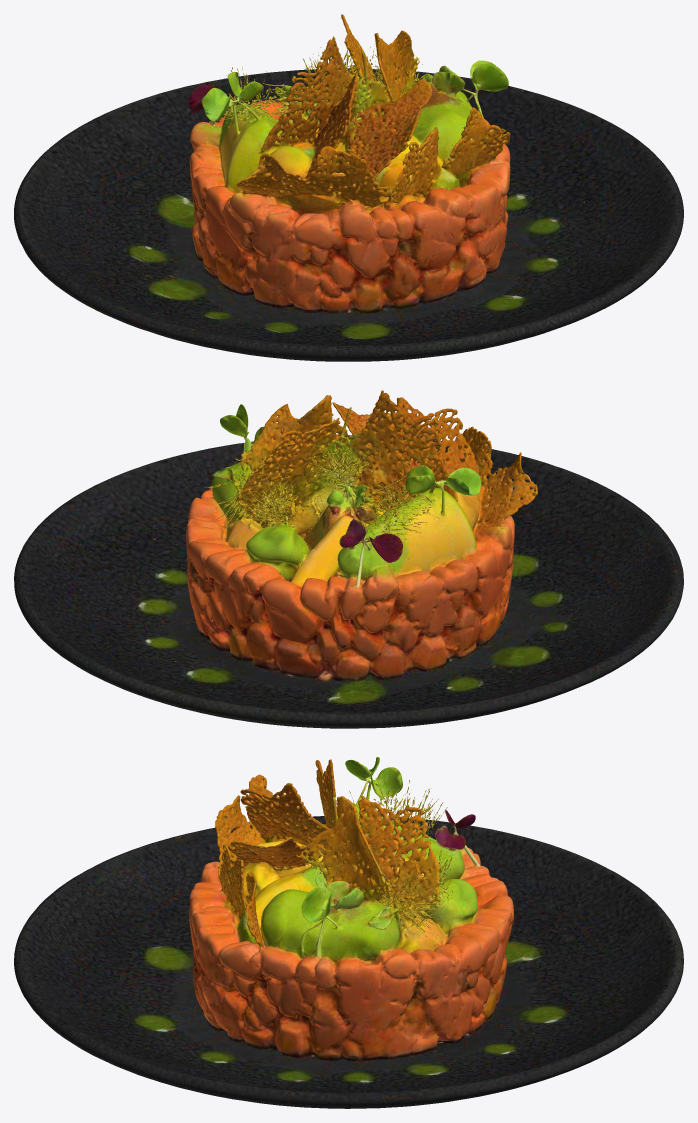
File: tartare-saumon-ar-lite-meshy.glb
3 views of the same model, one above another, from view 1: azimuth 30°, elevation 25°; view 2: azimuth 150°, elevation 25°; view 3: azimuth 270°, elevation 25° (orthographic).
Visible parts, largest first — view 1: node0; view 2: node0; view 3: node0.
Boxes of the visible parts, x1,y1,x2,y2 form: node0: (14,14,683,361); node0: (14,390,683,728); node0: (14,757,683,1108).
Bounding box in the file's own units: 0.19 × 0.0754 × 0.19.
Materials: 1 (1 with a texture image).
